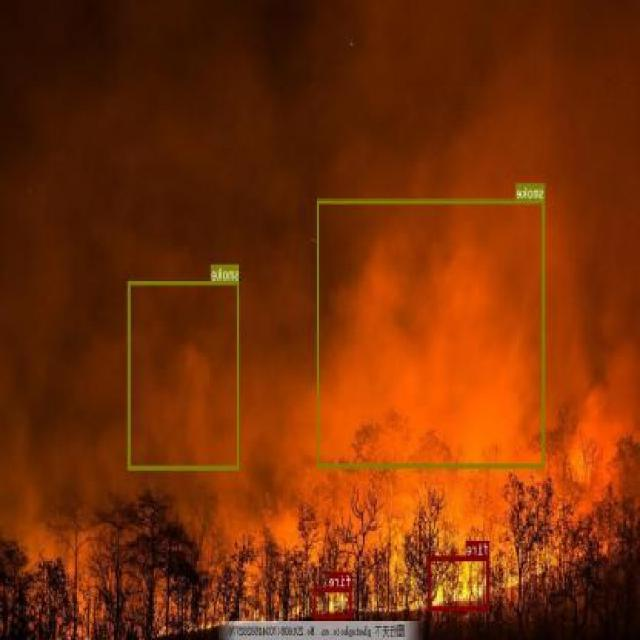Fire: (428, 556, 489, 610), (314, 586, 352, 619)
Smoke: (318, 198, 546, 467), (18, 27, 280, 252), (332, 14, 614, 177), (10, 284, 100, 522), (129, 280, 240, 469)
